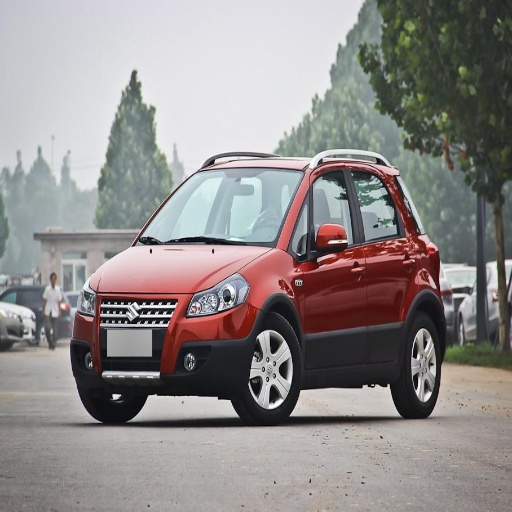front_bumper: (75, 292, 258, 388)
front_glass: (135, 168, 302, 245)
front_left_door: (293, 162, 368, 367)
trunk: (411, 237, 445, 300)
